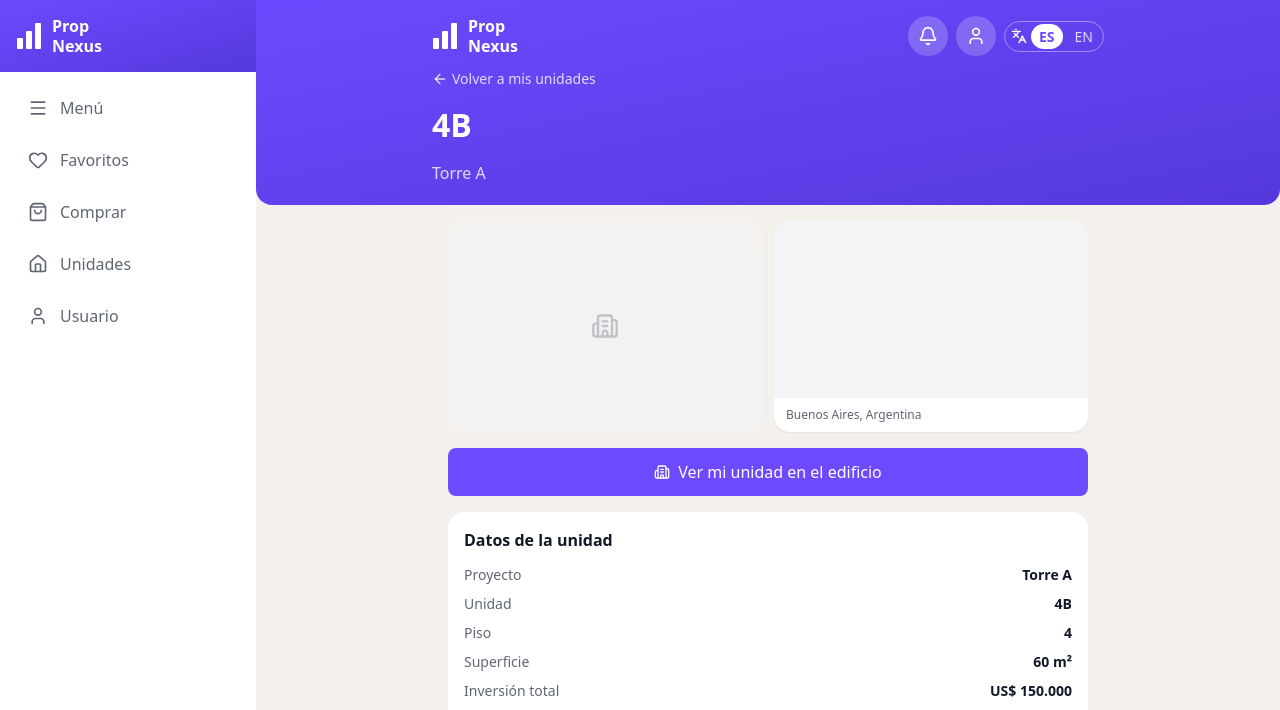
Test: /investor/unit/$unitId › mapa (INV-UNIT-LOC-001) › con coordenadas abre el modal del mapa y lo cierra con Escape
Expected: the text "Buenos Aires, Argentina" is shown, [786,406,922,423]
Click the button with aria-label "Abrir mapa" at (931, 326), box [774,221,1088,432]
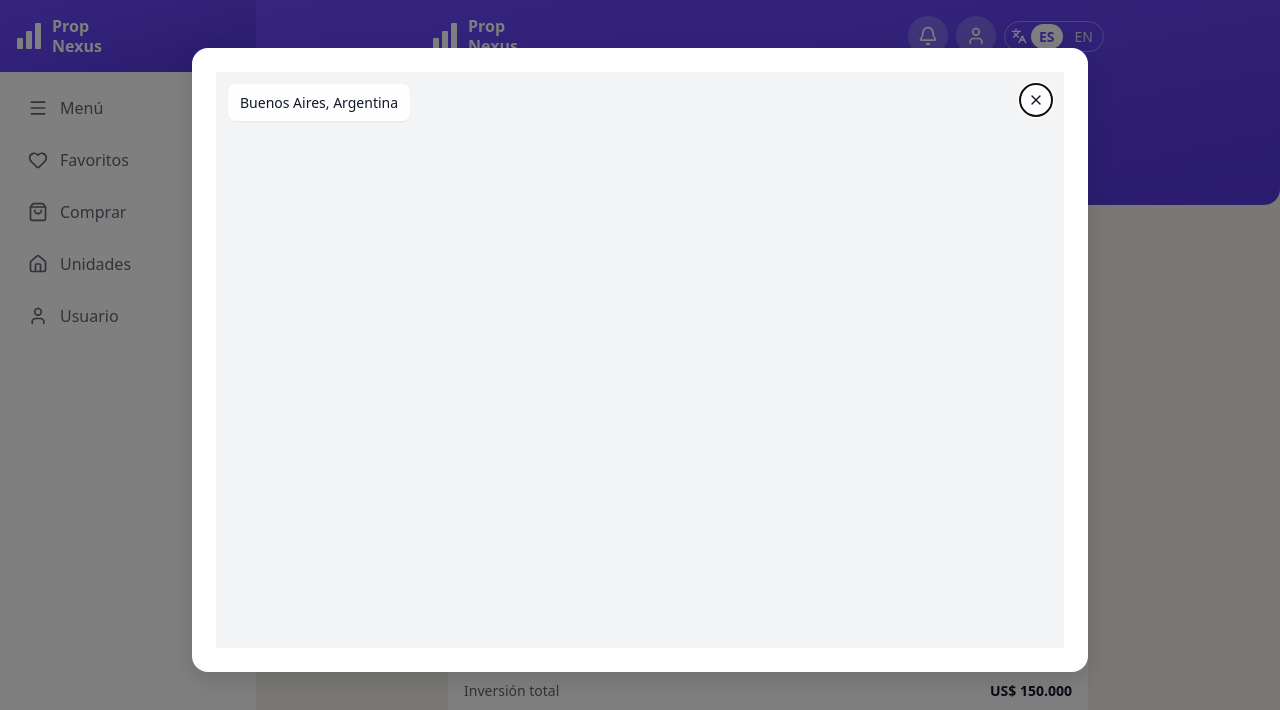
Expected: the dialog with test id "INV-UNIT-LOC-001" is shown
Press Escape in the button named "Cerrar mapa", box [1020,84,1052,116]
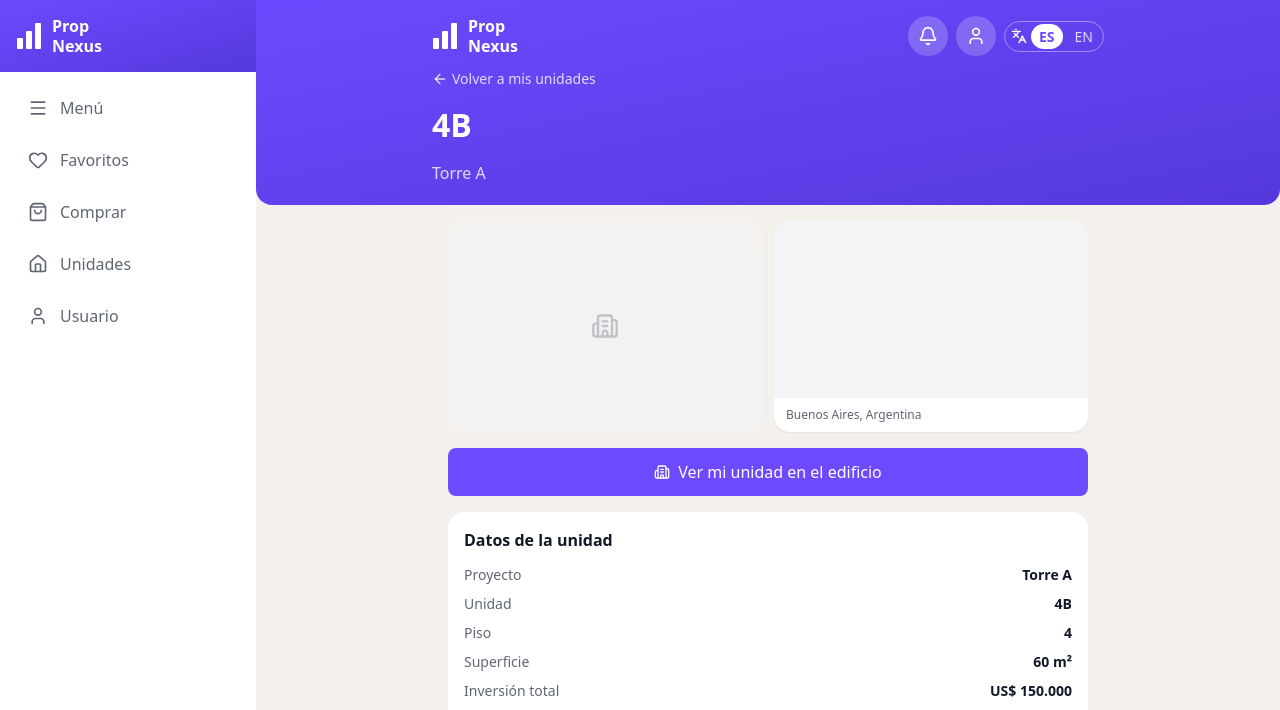
Expected: the dialog with test id "INV-UNIT-LOC-001" is gone
